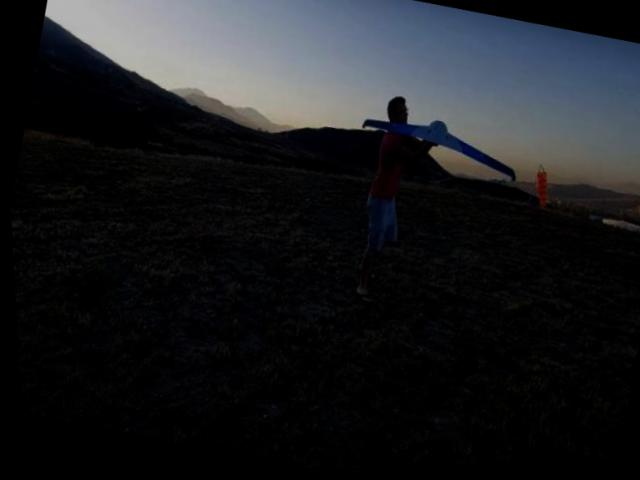iha: (354, 101, 530, 194)
